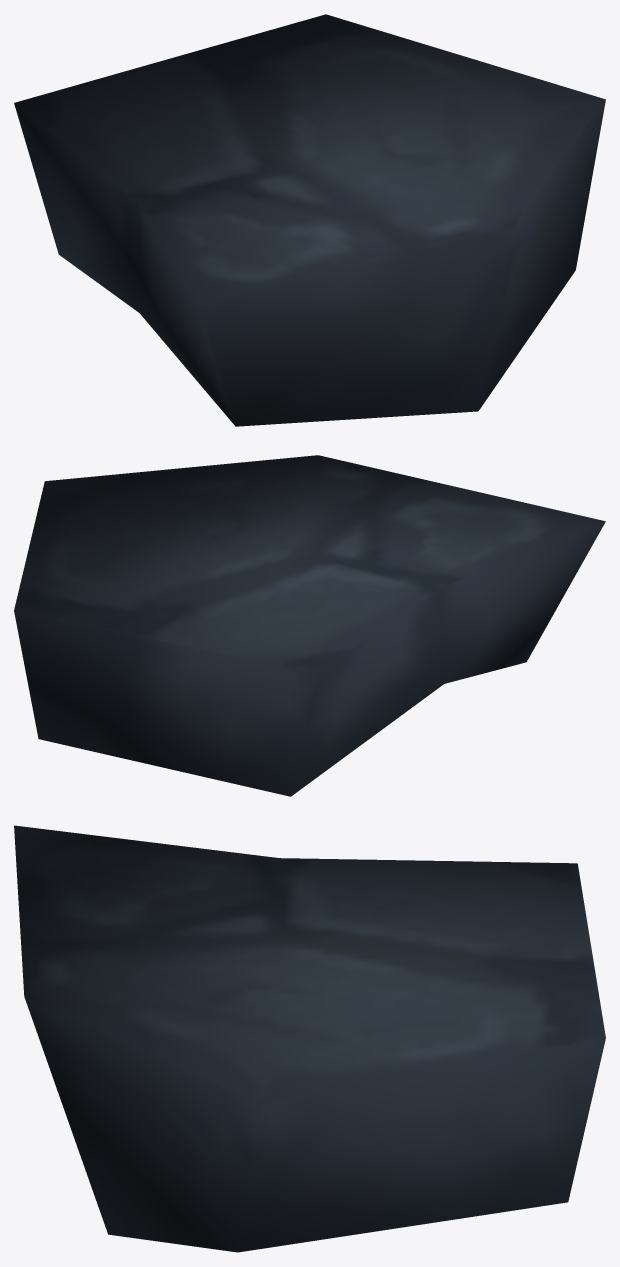
File: sn_jiguan_stone_007.FBX
The picture shows the model from 3 angles, top to bottom: view 1: azimuth 30°, elevation 25°; view 2: azimuth 150°, elevation 25°; view 3: azimuth 270°, elevation 25°; orthographic projection. The views are drawn at different scales.
Visible parts, largest first — view 1: sn_jiguan_stone_007; view 2: sn_jiguan_stone_007; view 3: sn_jiguan_stone_007.
Boxes of the visible parts, x1=… form: sn_jiguan_stone_007: x1=14, y1=14, x2=605, y2=426; sn_jiguan_stone_007: x1=14, y1=455, x2=605, y2=796; sn_jiguan_stone_007: x1=14, y1=825, x2=605, y2=1252.
Size of the model in its own units: 97.56 by 38.53 by 87.59.
